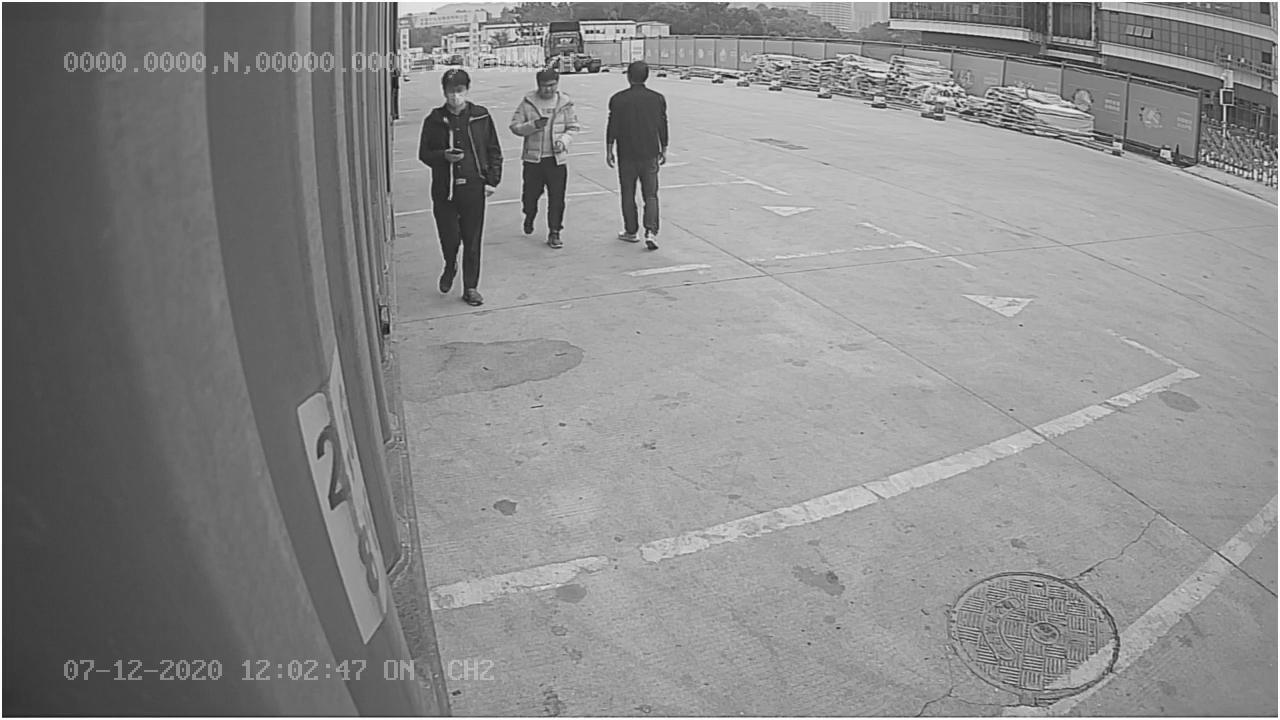person: (419, 64, 499, 306)
